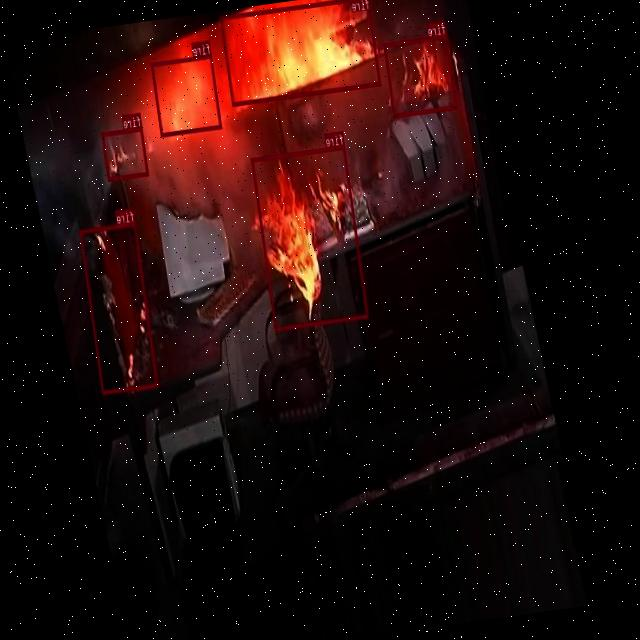fire: (252, 144, 370, 331), (220, 0, 381, 106), (80, 222, 160, 395), (383, 34, 458, 117), (151, 54, 223, 136), (102, 126, 149, 180)
